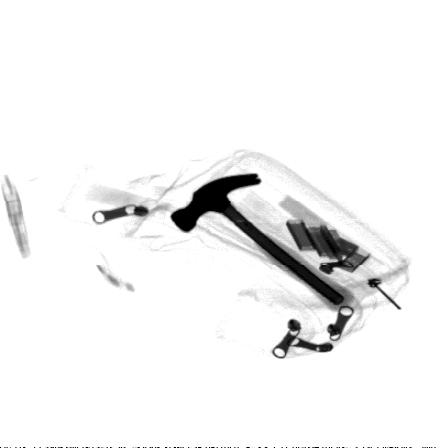Hammer: (169, 172, 356, 312)
